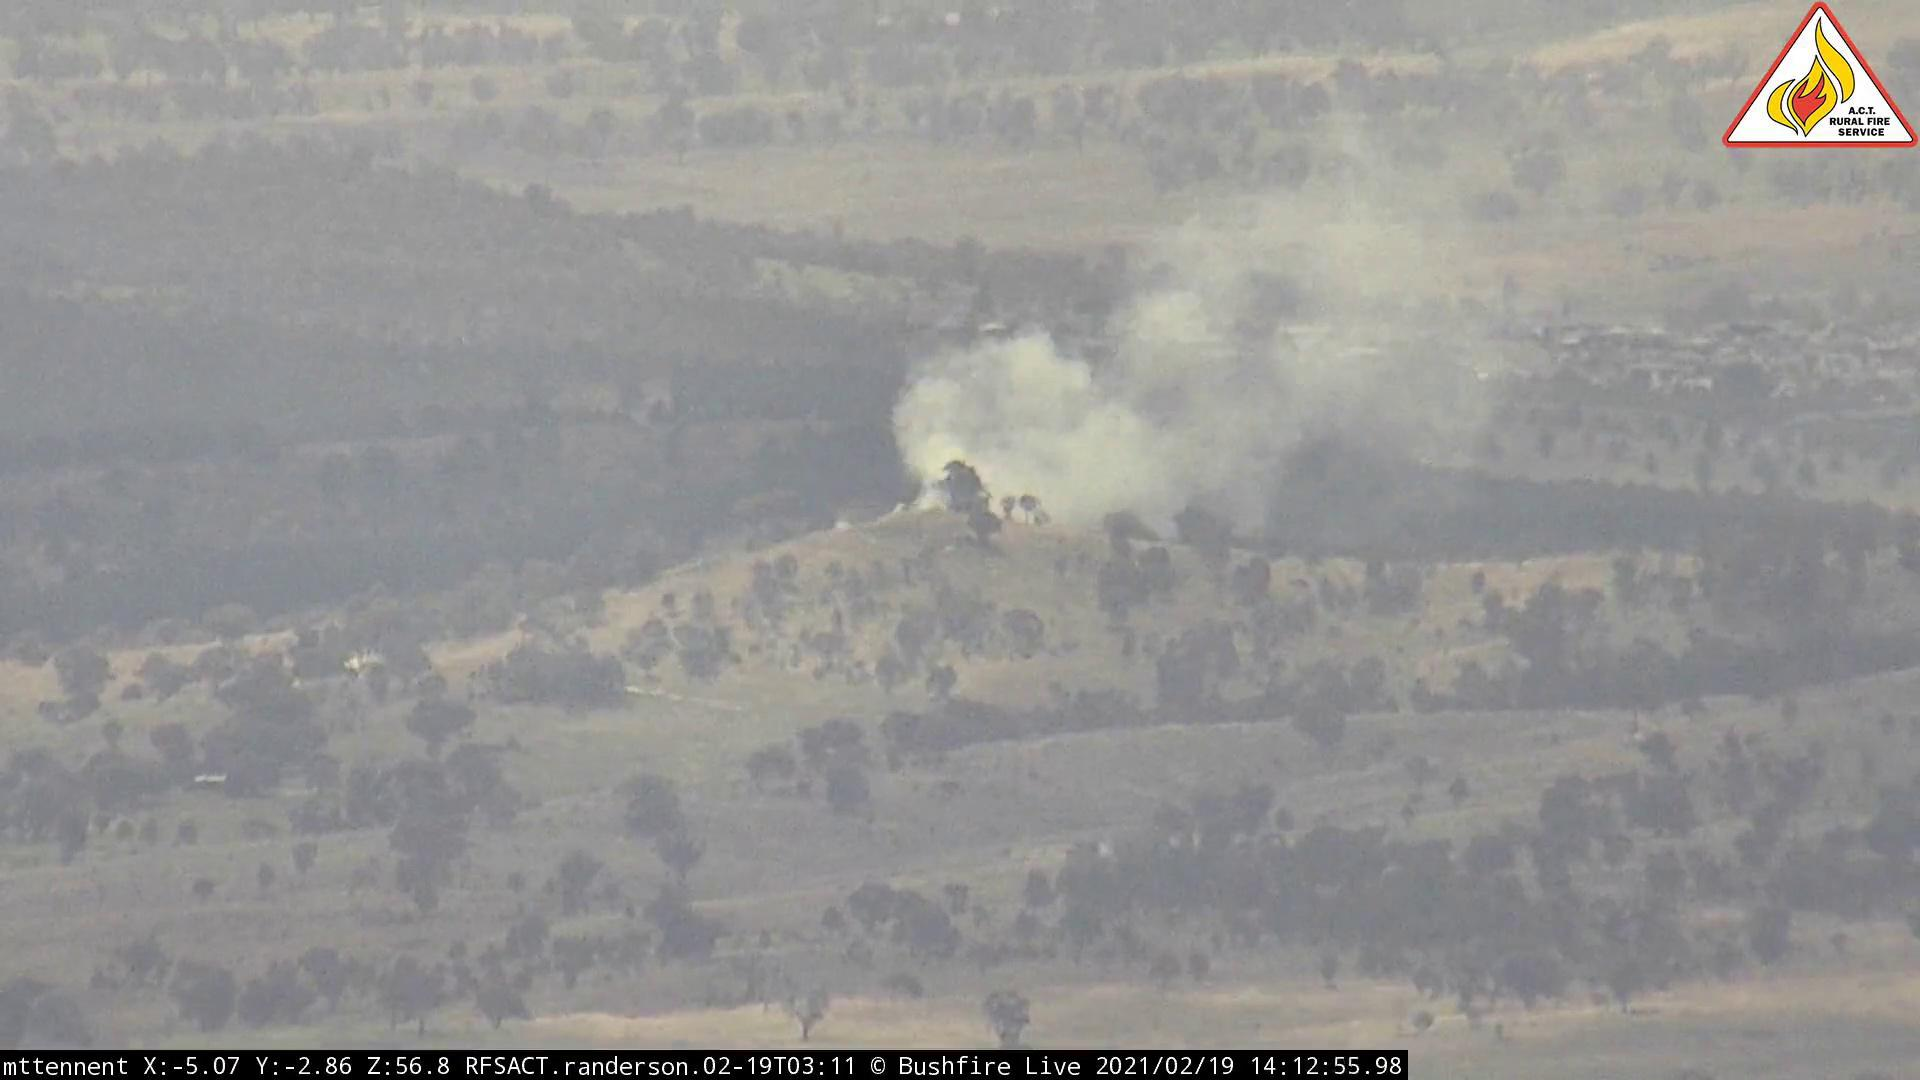Smoke: (847, 160, 1556, 545)
